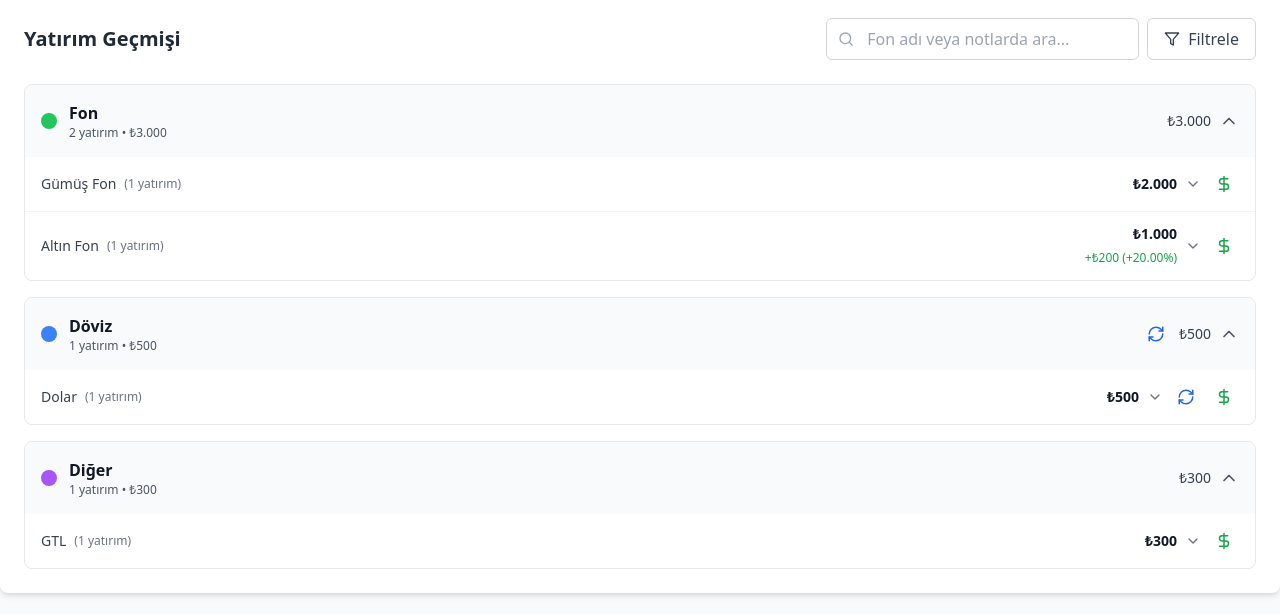
InvestmentList › Search functionality › should filter investments by fund name
Type "Altın" into the field named "yatırımlarda ara" at (983, 39), box [826,18,1139,60]
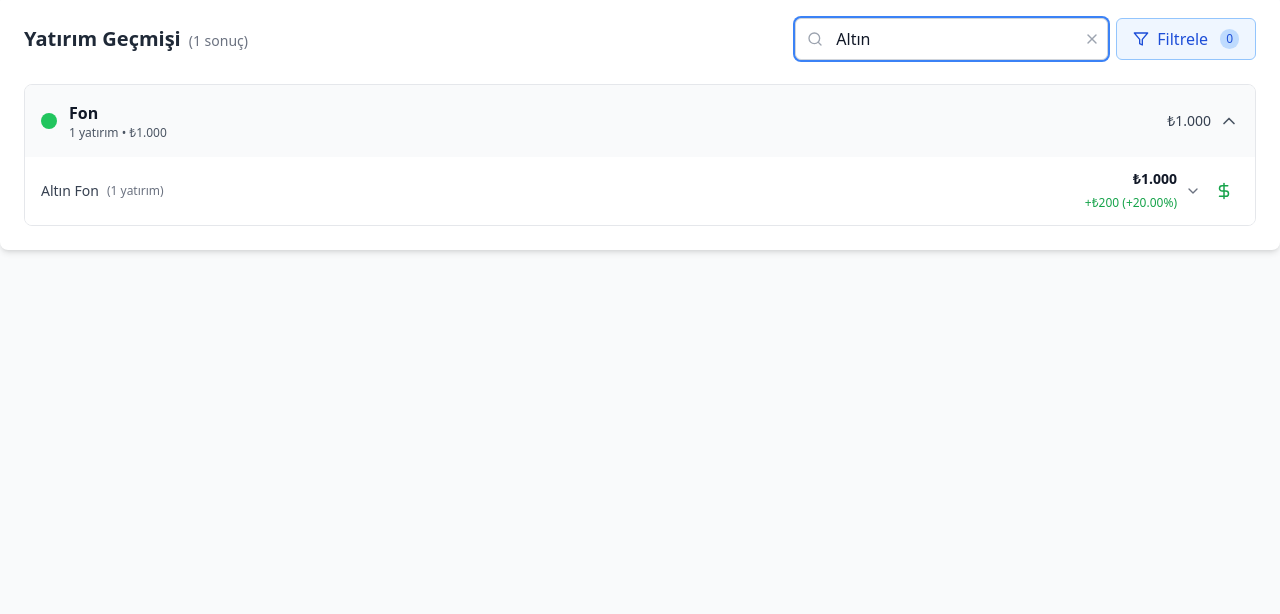
Now the text "(1 sonuç)" is shown, box [189,31,248,50]
